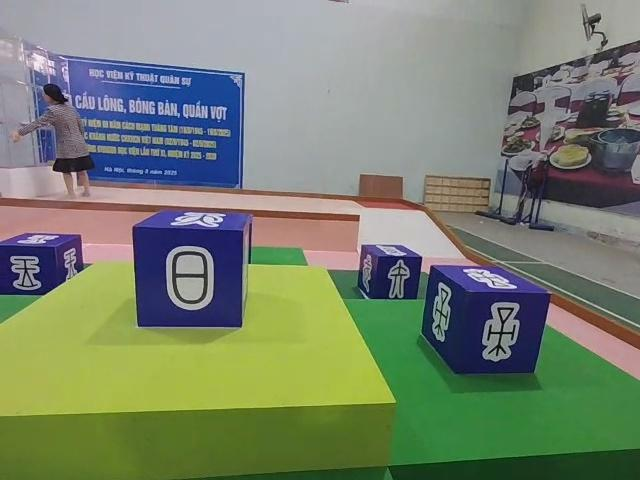R2 Fake Blue: (134, 211, 255, 331), (355, 244, 421, 301)
R2 Real Blue: (423, 267, 550, 379), (0, 233, 83, 298)
